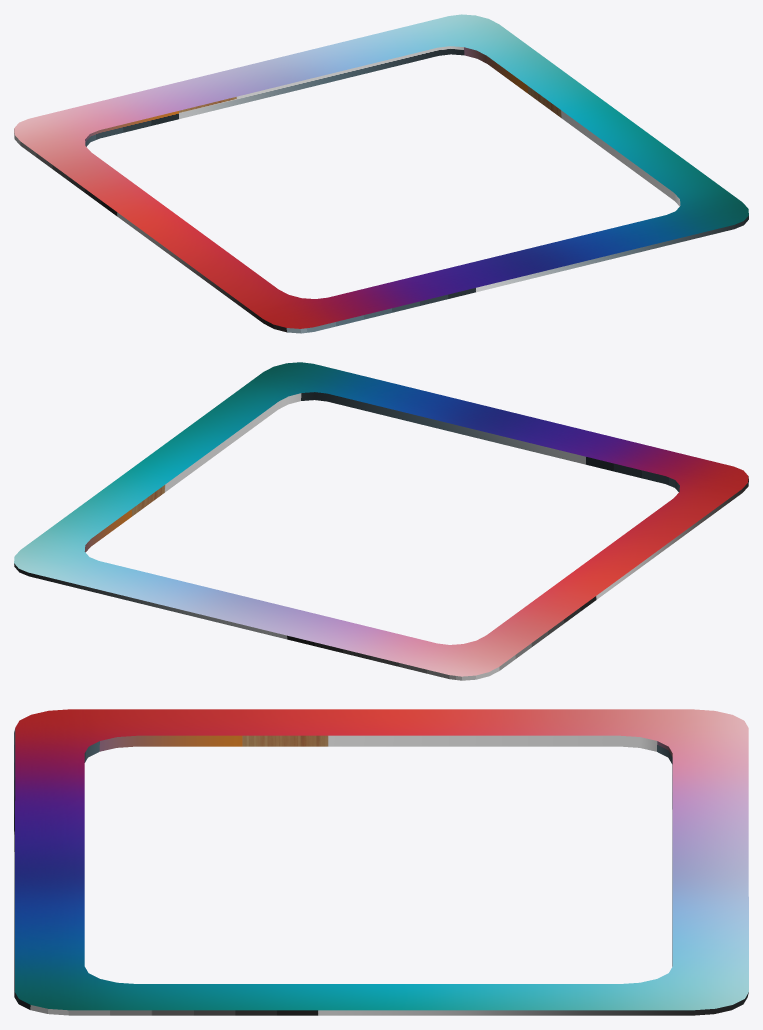
Rendered from GardunPath.fbx.
3 views of the same model, one above another, from view 1: azimuth 30°, elevation 25°; view 2: azimuth 150°, elevation 25°; view 3: azimuth 270°, elevation 25° (orthographic). The views are drawn at different scales.
Visible parts, largest first — view 1: GardunPath; view 2: GardunPath; view 3: GardunPath.
Boxes of the visible parts, bbox=[...] form: GardunPath: bbox=[14, 14, 748, 333]; GardunPath: bbox=[14, 362, 748, 680]; GardunPath: bbox=[14, 709, 748, 1015].
Bounding box in the file's own units: 7.52 × 0.1235 × 7.76.
